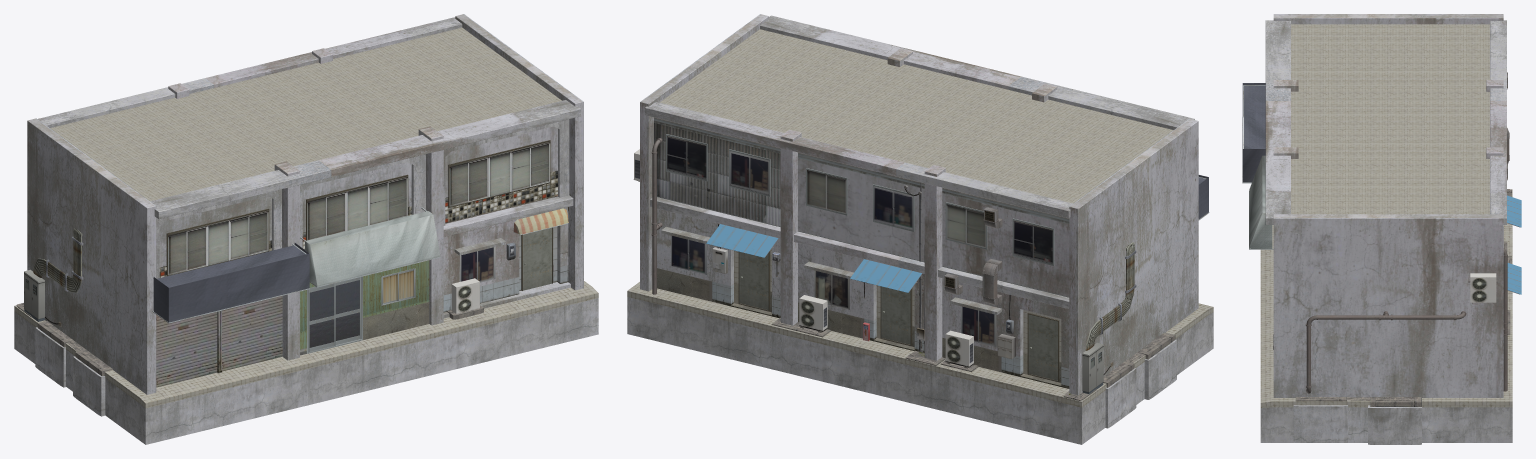
File: tri_shop_1.fbx
3 views of the same model, side by side, from view 1: azimuth 30°, elevation 25°; view 2: azimuth 150°, elevation 25°; view 3: azimuth 270°, elevation 25° (orthographic). The views are drawn at different scales.
Parts seen in each view (by area): view 1: tri_shop_1; view 2: tri_shop_1; view 3: tri_shop_1.
Part boxes in pixels (left/top/right/bottom): tri_shop_1: left=14, top=14, right=598, bottom=444; tri_shop_1: left=627, top=14, right=1213, bottom=444; tri_shop_1: left=1242, top=14, right=1521, bottom=444.
Size of the model in its own units: 1898 by 1032 by 901.
Materials: 7 (7 with a texture image).
